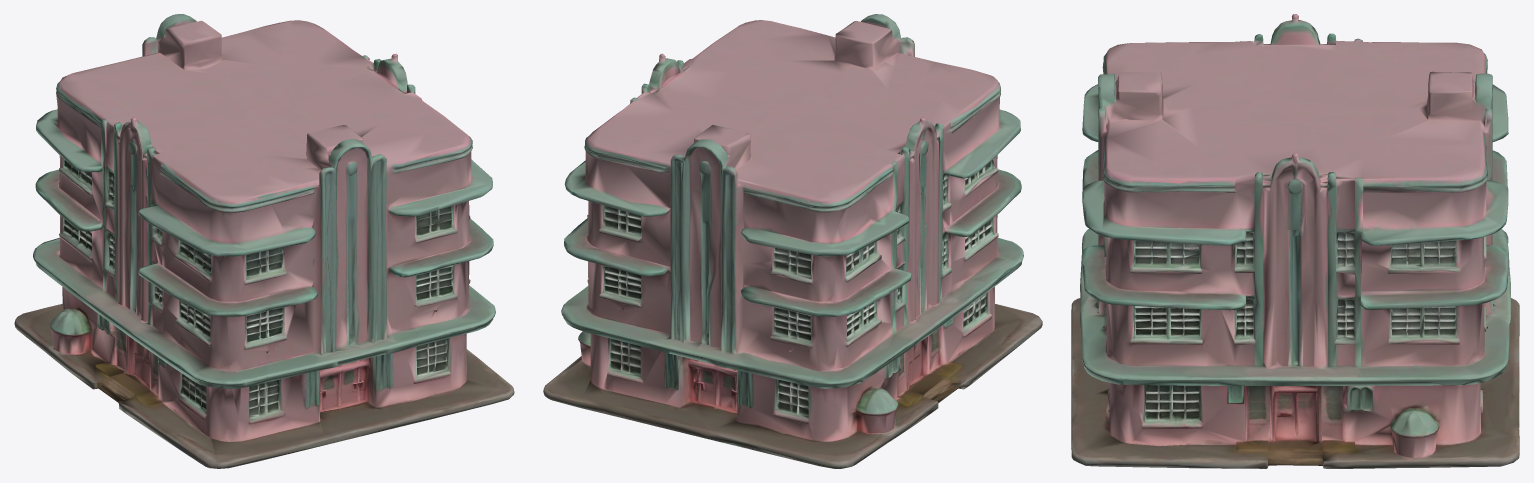
Rendered from deco_facade.glb.
3 renders of one model, left to right at view 1: azimuth 30°, elevation 25°; view 2: azimuth 150°, elevation 25°; view 3: azimuth 270°, elevation 25°, orthographic. The views are drawn at different scales.
Parts seen in each view (by area): view 1: tripo_node_8b48dc84-c73b-4db7-aef7-3ce3acf3ff57; view 2: tripo_node_8b48dc84-c73b-4db7-aef7-3ce3acf3ff57; view 3: tripo_node_8b48dc84-c73b-4db7-aef7-3ce3acf3ff57.
Boxes of the visible parts, <box> form: tripo_node_8b48dc84-c73b-4db7-aef7-3ce3acf3ff57: <box>14,14,514,468</box>; tripo_node_8b48dc84-c73b-4db7-aef7-3ce3acf3ff57: <box>543,14,1042,468</box>; tripo_node_8b48dc84-c73b-4db7-aef7-3ce3acf3ff57: <box>1071,14,1519,468</box>.
Bounding box in the file's own units: 0.8957 × 0.7589 × 0.9997.
1 material, 1 textured.
